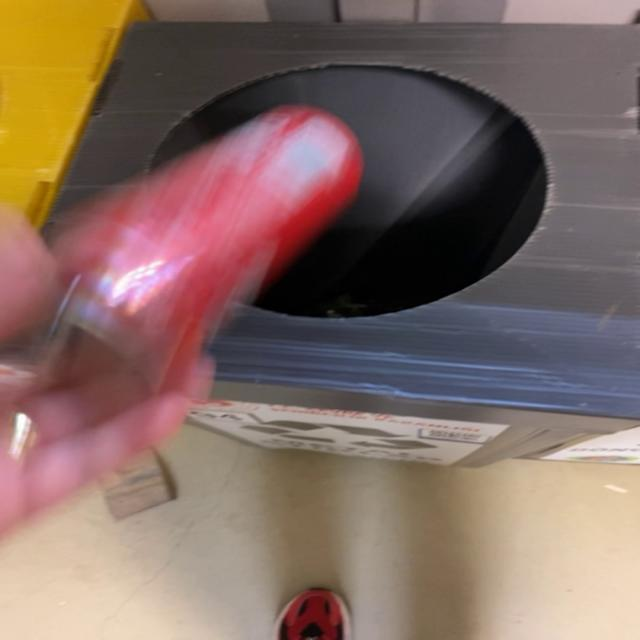bin: (53, 21, 639, 468)
metal: (52, 105, 361, 351)
